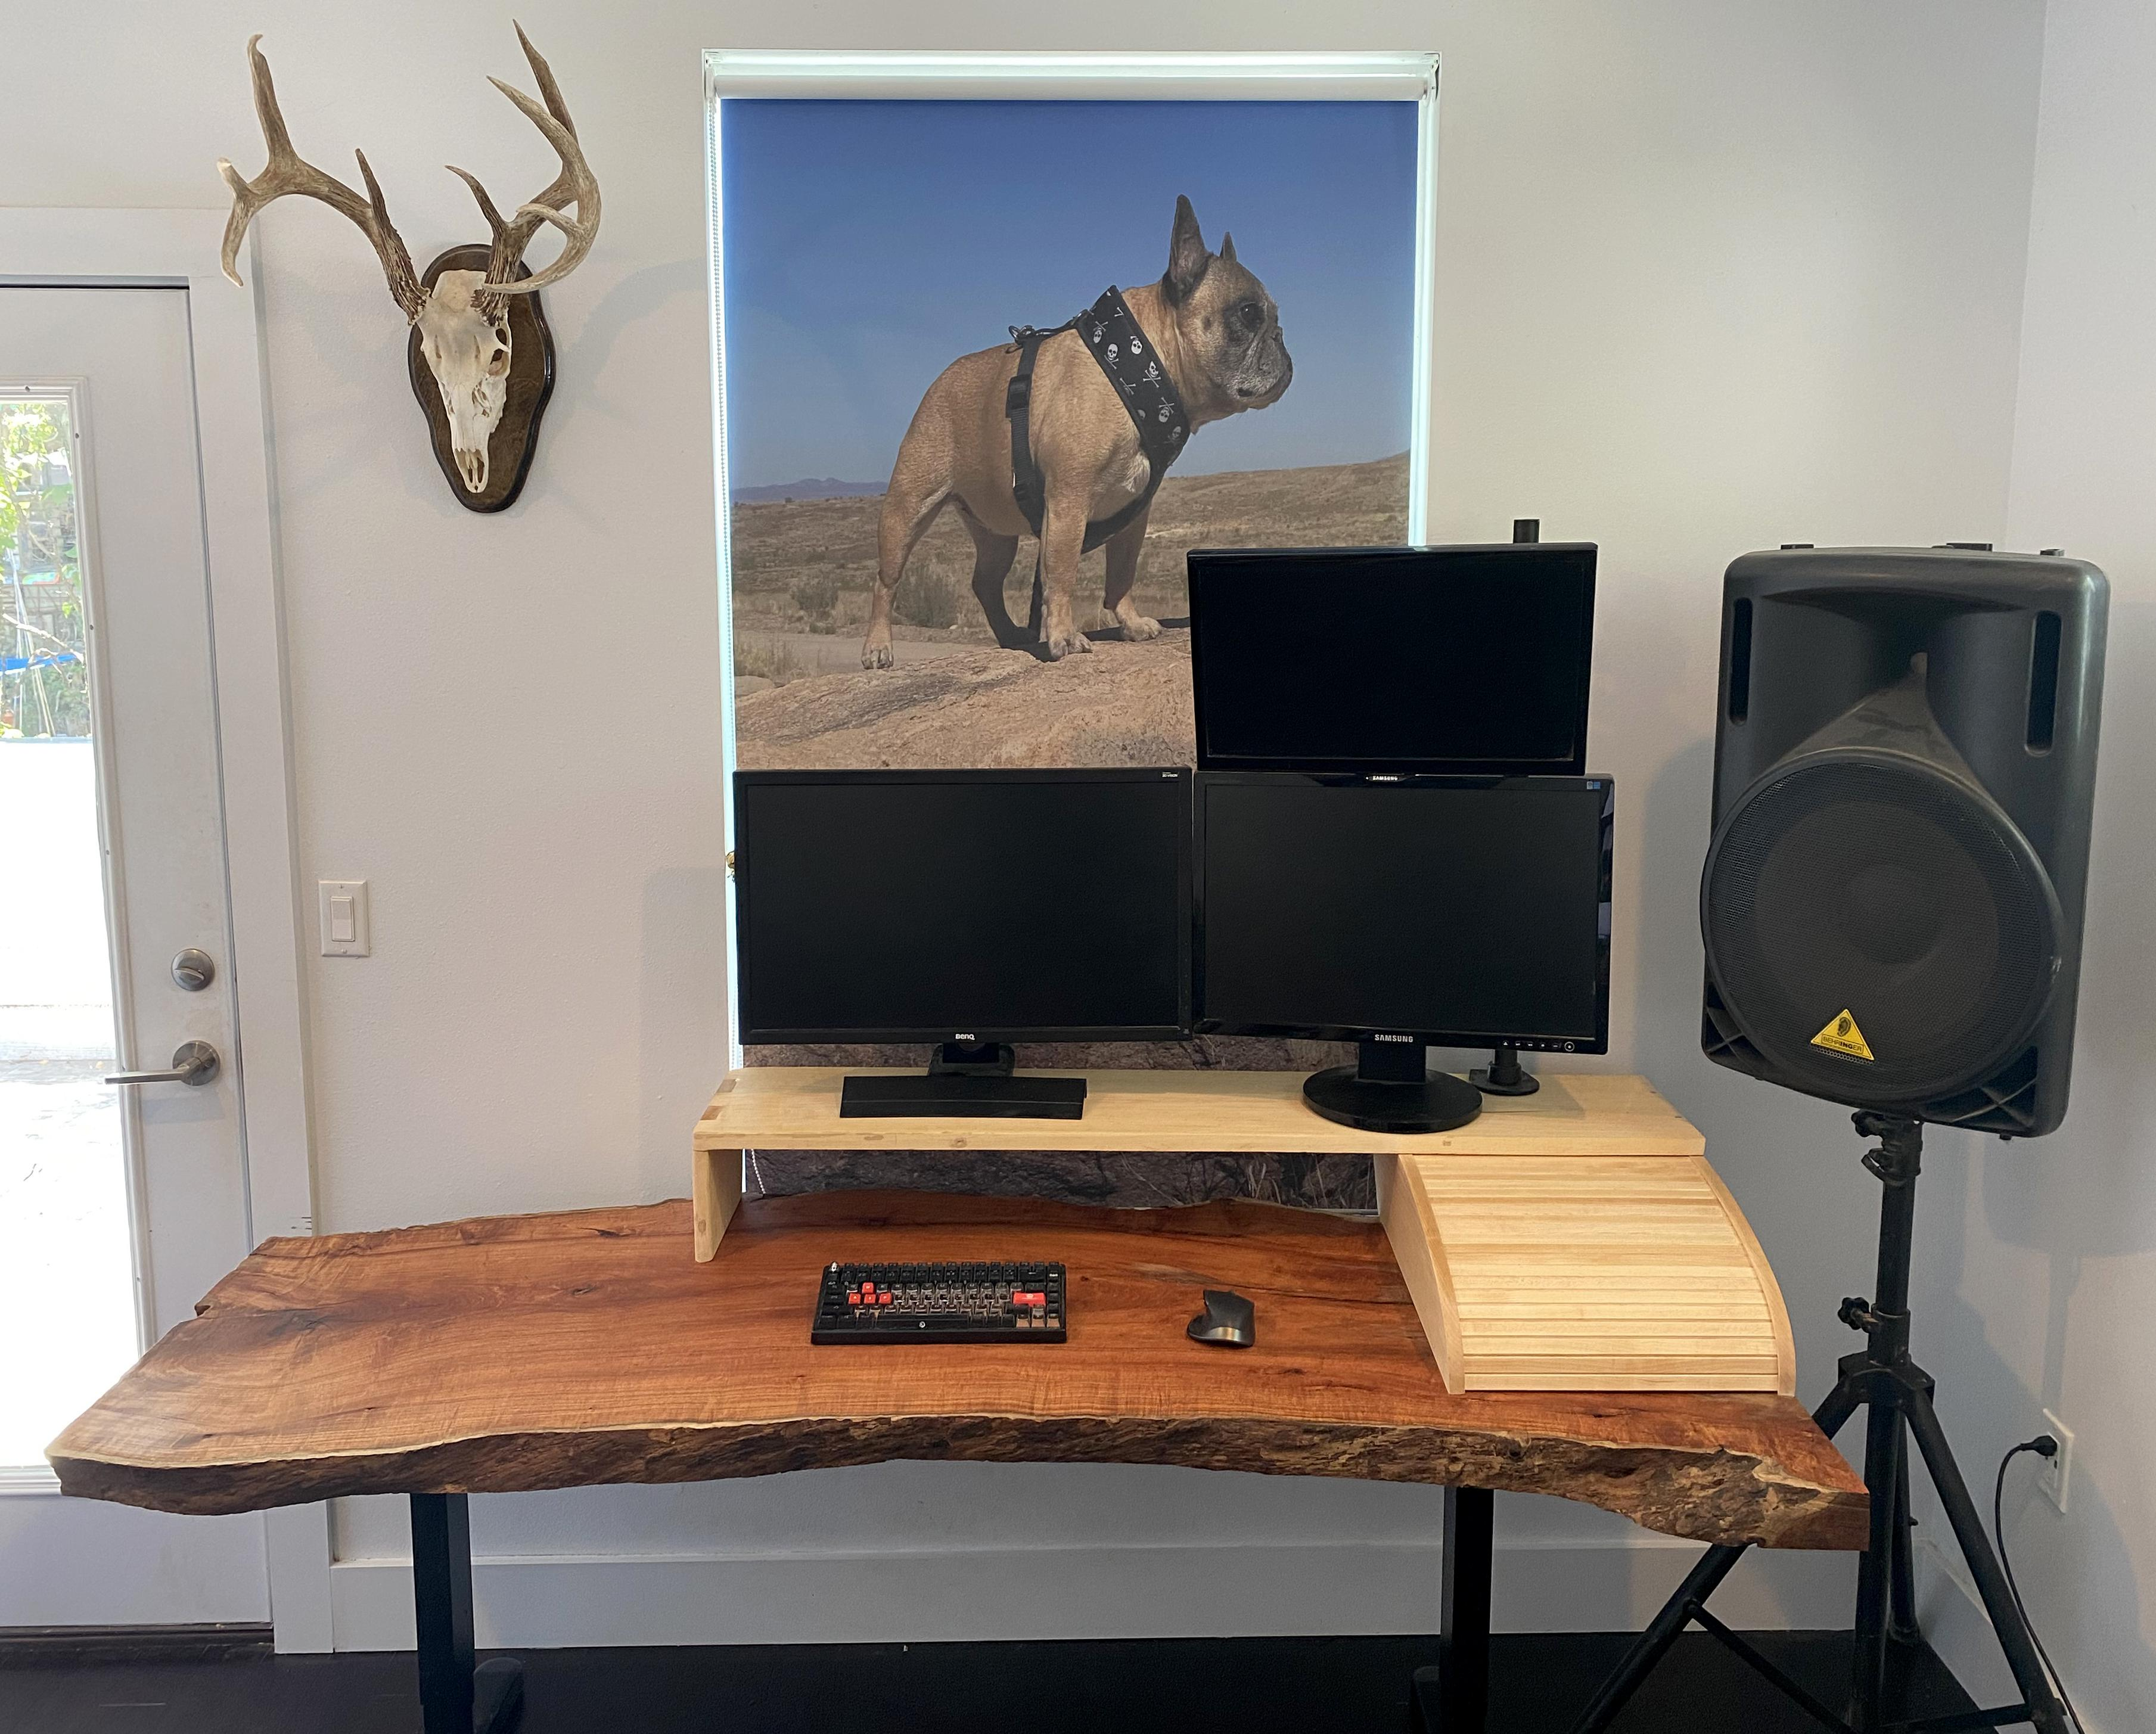Decoration (Generic): (219, 18, 603, 522)
Decoration (Picture): (700, 44, 1433, 1231)
Desk (Generic): (46, 1189, 1878, 1734)
External Speakers (Generic): (1696, 536, 2110, 1143)
Keyboard (Generic): (814, 1263, 1068, 1345)
Monitor (Landscape): (734, 763, 1194, 1124), (1194, 770, 1618, 1129), (1185, 540, 1601, 770)
Mouse (Ergonomic): (1187, 1286, 1256, 1354)
